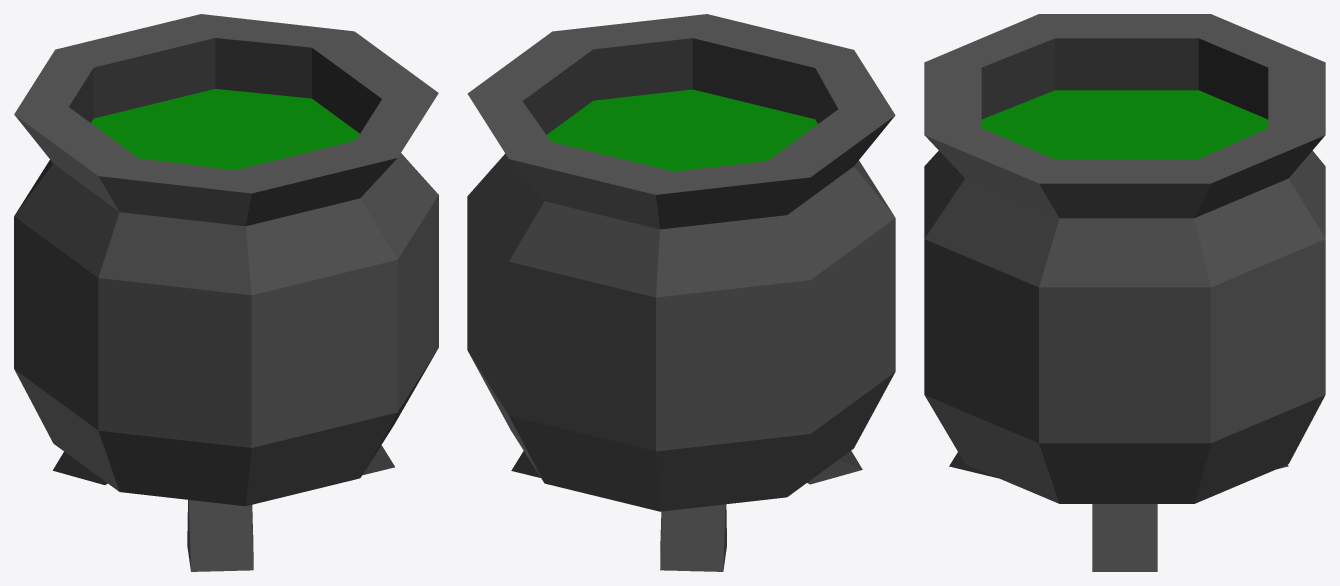
File: cauldron.obj
3 views of the same model, side by side, from view 1: azimuth 30°, elevation 25°; view 2: azimuth 150°, elevation 25°; view 3: azimuth 270°, elevation 25° (orthographic). The views are drawn at different scales.
Parts seen in each view (by area): view 1: cauldron_back; view 2: cauldron_back; view 3: cauldron_back.
Boxes of the visible parts, bbox=[...] form: cauldron_back: bbox=[14, 14, 438, 571]; cauldron_back: bbox=[467, 14, 895, 571]; cauldron_back: bbox=[924, 14, 1325, 571].
Bounding box in the file's own units: 0.98 × 1.07 × 0.98.
